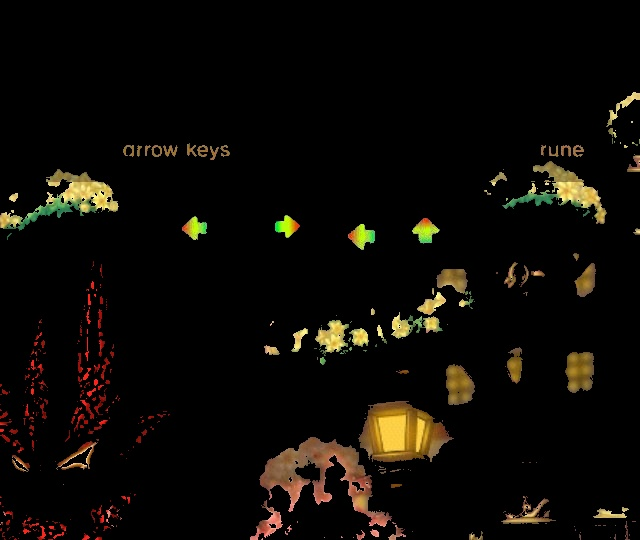left: (340, 217, 381, 256), (174, 210, 213, 250)
right: (268, 209, 309, 249)
up: (406, 213, 447, 252)
